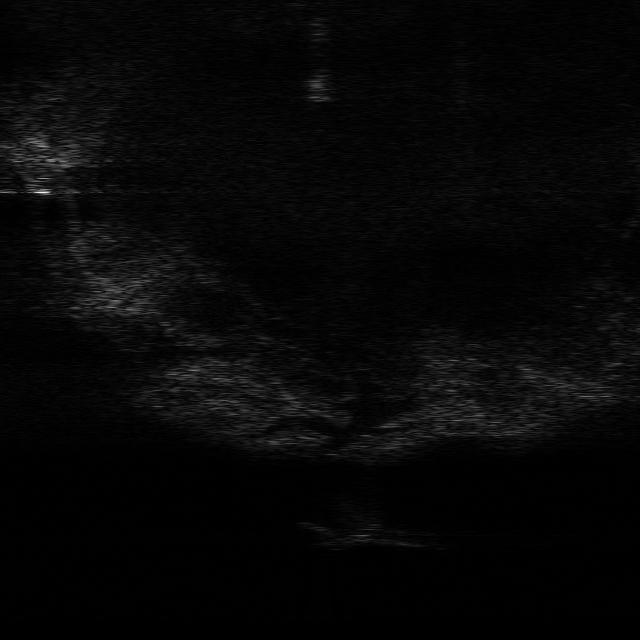plane: (295, 518, 430, 549)
